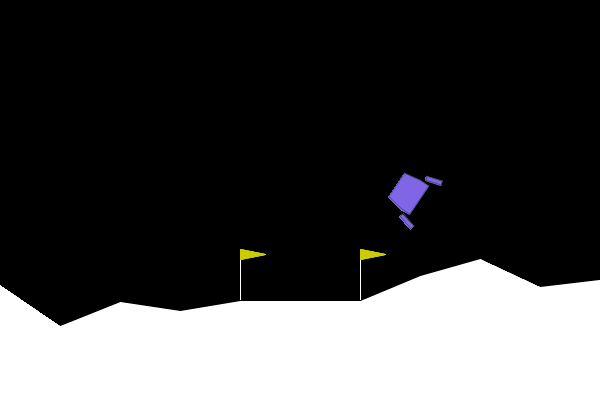lander: (378, 159, 444, 231)
